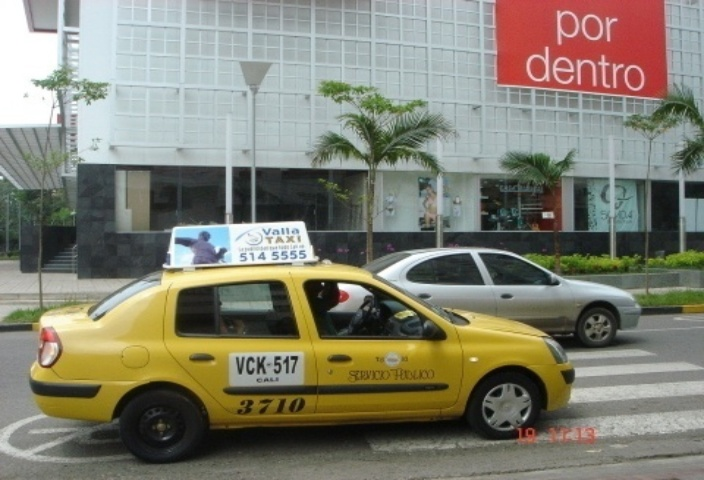car: (352, 227, 690, 359)
taxi: (29, 221, 588, 455)
